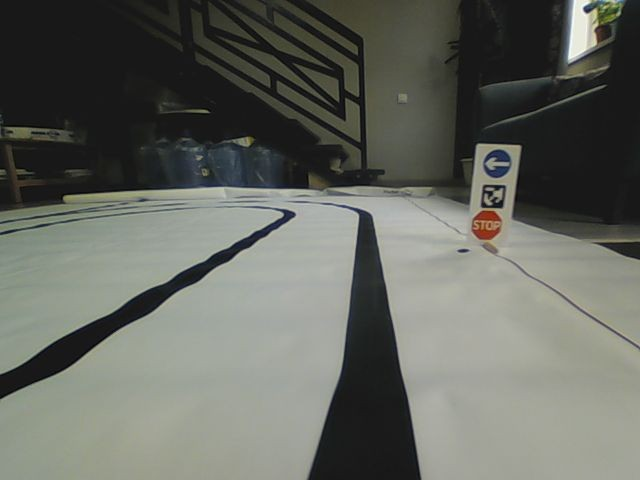Stop: (471, 208, 504, 242)
